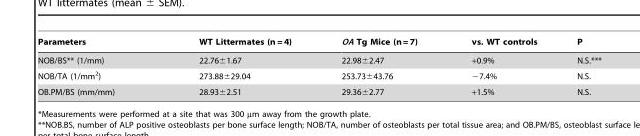table: (37, 37, 600, 96)
table column: (156, 37, 315, 96), (315, 37, 443, 96), (37, 37, 156, 96), (443, 37, 556, 96), (556, 37, 600, 96)
table column header: (37, 37, 600, 49)
table row: (37, 49, 600, 67), (37, 67, 600, 82), (37, 82, 600, 96), (37, 37, 600, 49)
